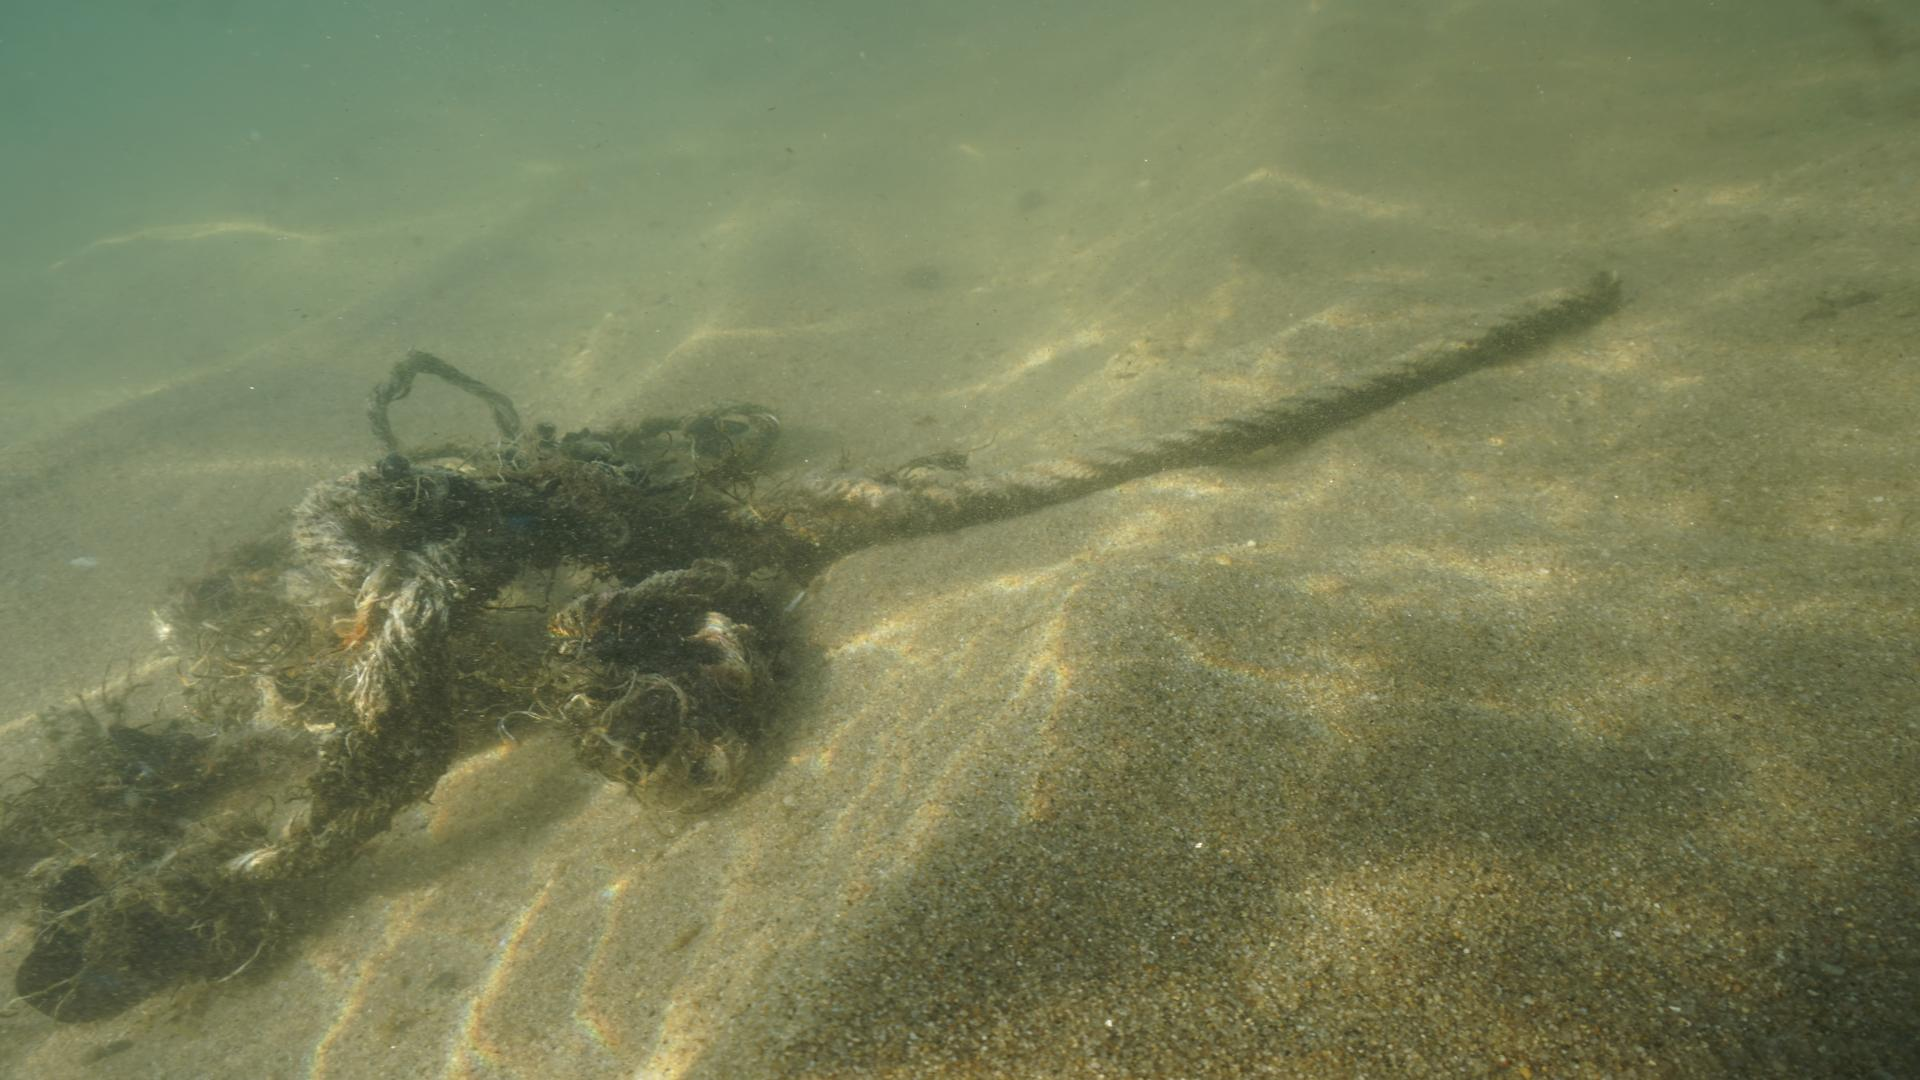rope: (737, 281, 1598, 550)
